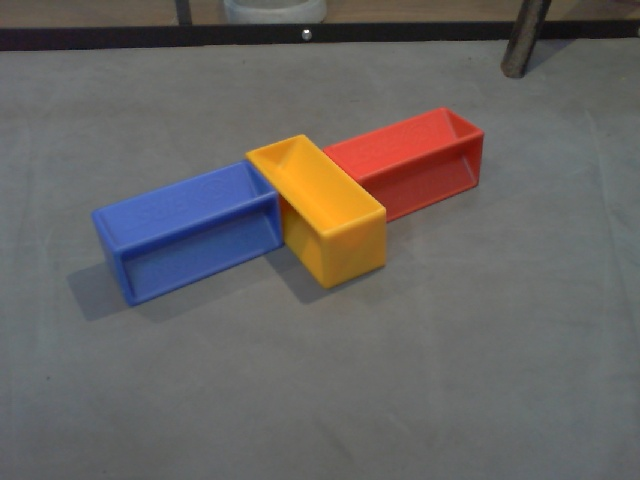BlueSample: (90, 156, 286, 308)
RedSample: (320, 105, 488, 222)
YellowSample: (241, 129, 392, 291)
